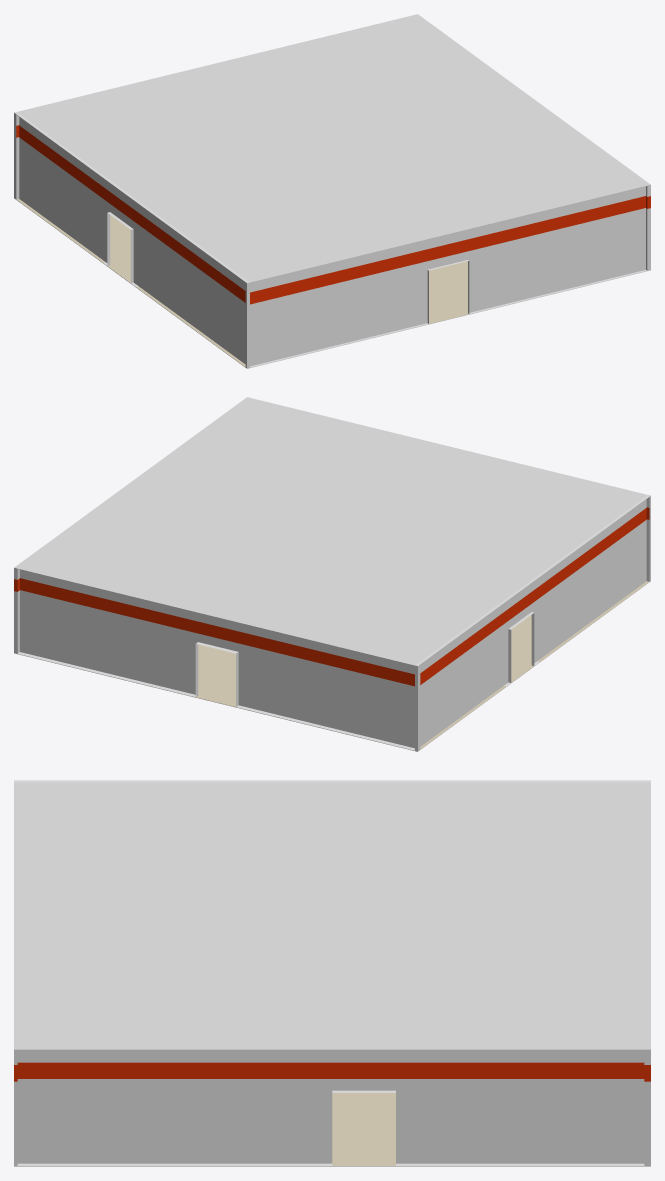
File: room3.glb
The picture shows the model from 3 angles, top to bottom: view 1: azimuth 30°, elevation 25°; view 2: azimuth 150°, elevation 25°; view 3: azimuth 270°, elevation 25°; orthographic projection. The views are drawn at different scales.
Parts seen in each view (by area): view 1: Box_TopAreaLamp.R1, Box_RoomArea.R1; view 2: Box_TopAreaLamp.R1, Box_RoomArea.R1; view 3: Box_TopAreaLamp.R1, Box_RoomArea.R1.
Boxes of the visible parts, x1=… form: Box_TopAreaLamp.R1: x1=14, y1=14, x2=650, y2=283; Box_RoomArea.R1: x1=14, y1=112, x2=650, y2=368; Box_TopAreaLamp.R1: x1=14, y1=397, x2=650, y2=666; Box_RoomArea.R1: x1=14, y1=495, x2=650, y2=751; Box_TopAreaLamp.R1: x1=14, y1=782, x2=650, y2=1050; Box_RoomArea.R1: x1=14, y1=780, x2=650, y2=1166.
Size of the model in its own units: 20 by 4.96 by 20.
